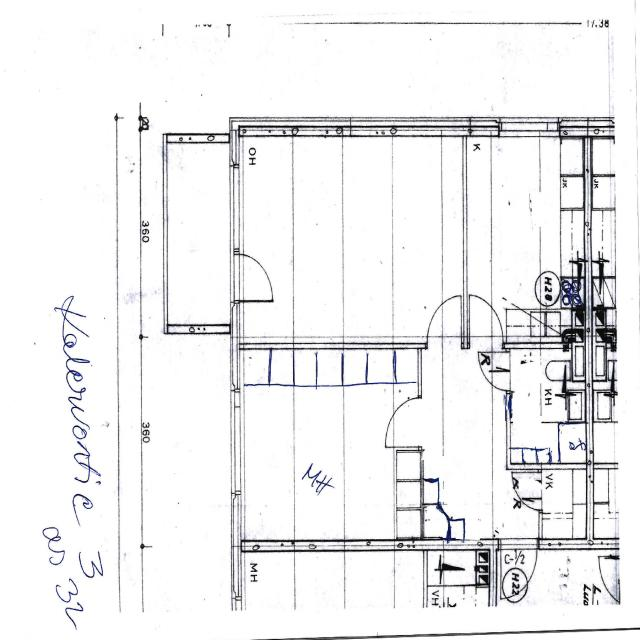door: (501, 538, 537, 600), (230, 254, 276, 301), (427, 294, 461, 349), (383, 398, 421, 447), (470, 297, 503, 349), (511, 471, 542, 510), (479, 352, 510, 390)
